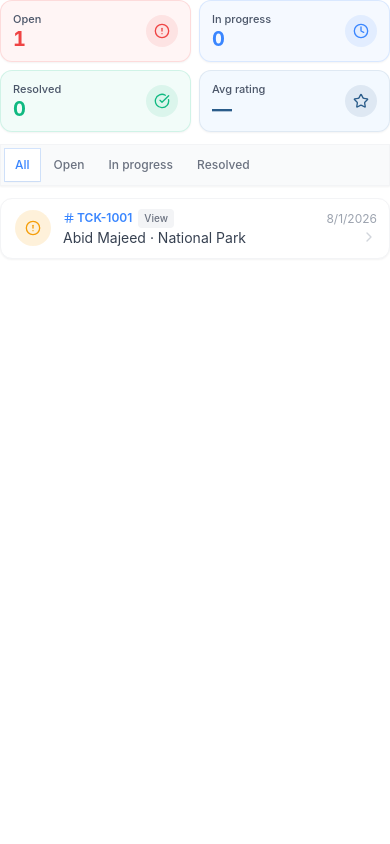
Test: PortalComplaints › hides update controls when the employee is not the assignee
This screenshot has width=390, height=844.
Check: the text "View" is shown, box [138,208,174,228]
Click the text "TCK-1001".
click(98, 218)  # box [63,210,132,226]
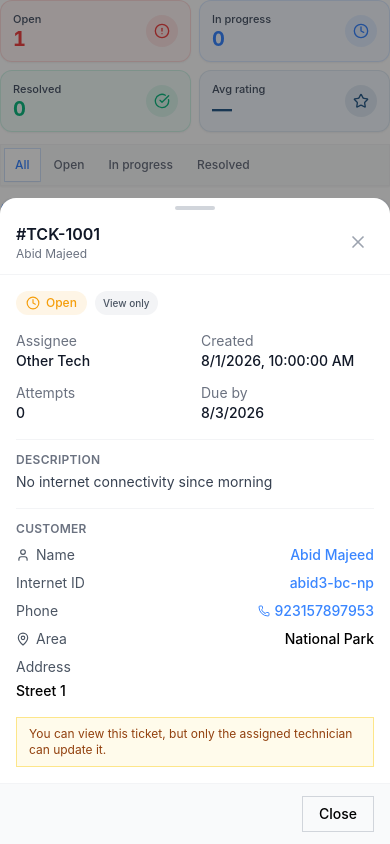
Check: the text "View only" is shown, box [95,291,158,315]
Check: the text "only the assigned technician can update" is shown, box [29,726,352,757]
